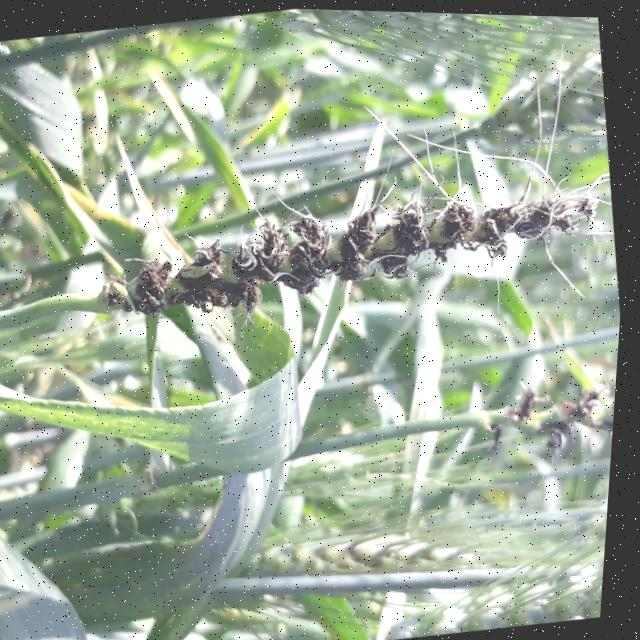loose_charred: (65, 108, 616, 363), (432, 322, 624, 503)
